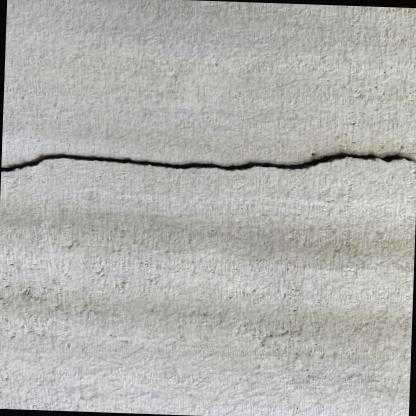crack: (2, 150, 416, 173)
